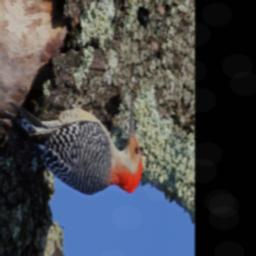Woodpecker: (3, 24, 153, 237)
